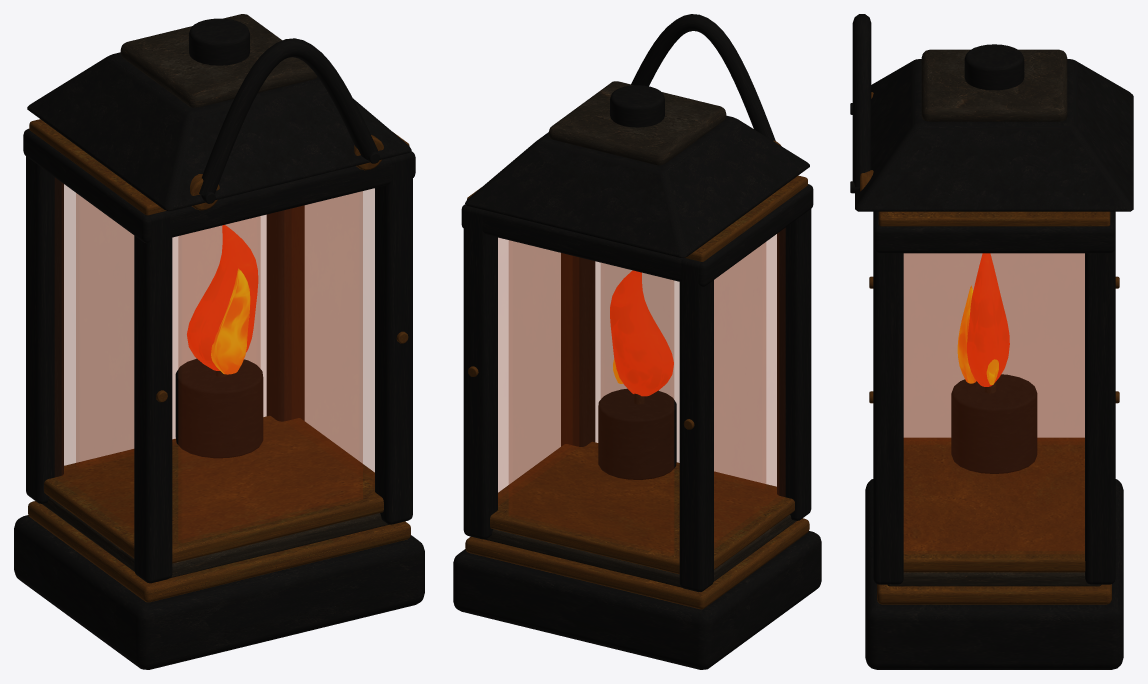
The model's file is ember-lantern-v02-textured-v03.glb.
3 views of the same model, side by side, from view 1: azimuth 30°, elevation 25°; view 2: azimuth 150°, elevation 25°; view 3: azimuth 270°, elevation 25° (orthographic). The views are drawn at different scales.
Visible parts, largest first — view 1: Amber glass front/back, Tapered lantern roof, Base pan, Bottom trim, Amber glass sides, Amber glass sides.001, Amber glass front/back.001, Forged corner upright, Forged corner upright.002, Forged corner upright.001, Upper retaining rail, Forged corner upright.003 (+9 smaller); view 2: Amber glass front/back.001, Tapered lantern roof, Base pan, Bottom trim, Amber glass sides, Amber glass sides.001, Amber glass front/back, Forged corner upright.001, Forged corner upright.003, Forged corner upright, Upper retaining rail, Roof crown (+8 smaller); view 3: Amber glass sides.001, Tapered lantern roof, Amber glass sides, Bottom trim, Base pan, Forged corner upright.002, Forged corner upright.003, Roof crown, Inner ember holder, Upper retaining rail, Lower bronze bead, Outer curved flame (+5 smaller).
Boxes of the visible parts, box(x1,y1,x2,y2) form: Amber glass front/back: box(178, 191, 362, 542); Tapered lantern roof: box(27, 52, 411, 211); Base pan: box(14, 515, 424, 669); Bottom trim: box(44, 415, 383, 563); Amber glass sides: box(55, 178, 133, 534); Amber glass sides.001: box(291, 188, 374, 486); Amber glass front/back.001: box(76, 193, 259, 465); Forged corner upright: box(134, 211, 172, 583); Forged corner upright.002: box(375, 153, 412, 524); Forged corner upright.001: box(26, 156, 63, 503); Upper retaining rail: box(23, 128, 415, 243); Forged corner upright.003: box(266, 205, 304, 421); Amber glass front/back.001: box(509, 240, 673, 555); Tapered lantern roof: box(465, 115, 809, 258); Base pan: box(453, 531, 821, 669); Bottom trim: box(490, 441, 794, 574); Amber glass sides: box(714, 229, 784, 548); Amber glass sides.001: box(498, 238, 572, 505); Amber glass front/back: box(601, 242, 765, 486); Forged corner upright.001: box(679, 258, 713, 592); Forged corner upright.003: box(463, 206, 497, 539); Forged corner upright: box(777, 209, 811, 520); Upper retaining rail: box(461, 184, 813, 286); Roof crown: box(548, 81, 726, 165); Amber glass sides.001: box(904, 253, 1084, 553); Tapered lantern roof: box(855, 59, 1133, 211); Amber glass sides: box(904, 254, 1084, 441); Bottom trim: box(903, 437, 1085, 572); Base pan: box(865, 479, 1123, 669); Forged corner upright.002: box(873, 216, 903, 584); Forged corner upright.003: box(1085, 216, 1115, 584); Roof crown: box(921, 49, 1067, 121); Inner ember holder: box(951, 374, 1037, 473); Upper retaining rail: box(873, 211, 1115, 253); Lower bronze bead: box(877, 584, 1111, 604); Outer curved flame: box(967, 253, 1009, 386).
Bounding box in the file's own units: 0.49 × 0.9808 × 0.4286.
7 materials, 7 textured.
